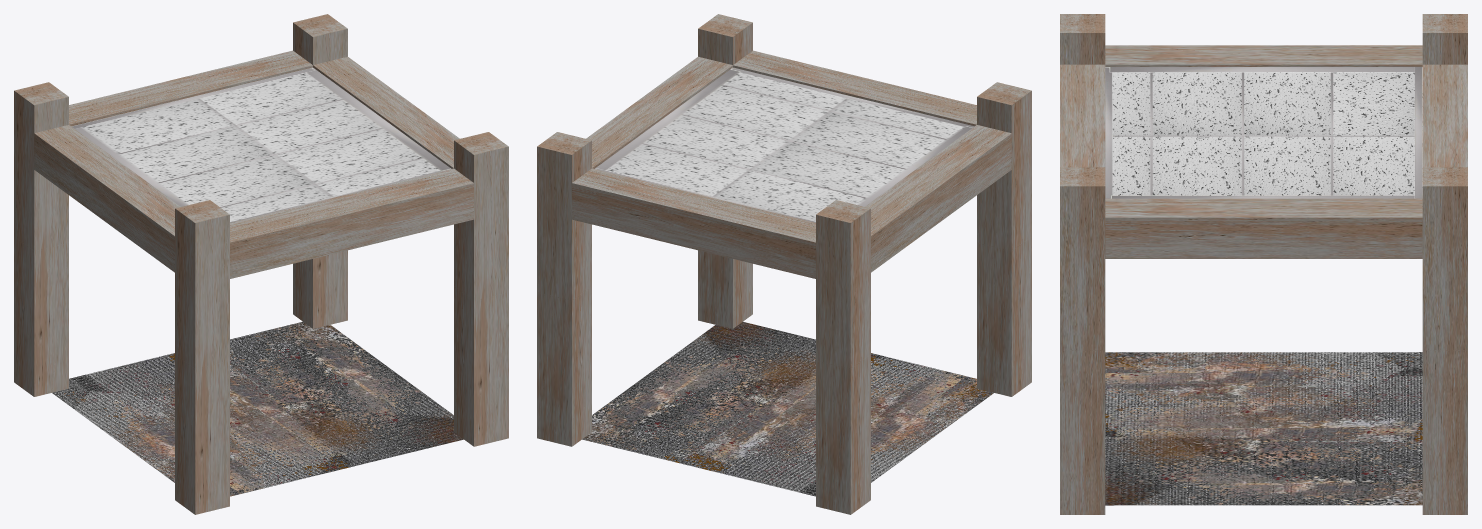
The picture shows the model from 3 angles, left to right: view 1: azimuth 30°, elevation 25°; view 2: azimuth 150°, elevation 25°; view 3: azimuth 270°, elevation 25°; orthographic projection. The views are drawn at different scales.
Visible parts, largest first — view 1: floor_front, cieling_front, center_pillar_left.002, center_pillar_left.003, center_pillar_left, front_left_support_beam.003, front_left_support_beam, center_pillar_left.001, front_left_support_beam.002, front_left_support_beam.001; view 2: floor_front, cieling_front, center_pillar_left, center_pillar_left.001, center_pillar_left.002, front_left_support_beam.002, front_left_support_beam, center_pillar_left.003, front_left_support_beam.003, front_left_support_beam.001; view 3: floor_front, cieling_front, front_left_support_beam.001, center_pillar_left.001, center_pillar_left.003, front_left_support_beam, front_left_support_beam.002, front_left_support_beam.003, center_pillar_left, center_pillar_left.002.
Boxes of the visible parts, <box> form: floor_front: <box>52,321,463,496</box>; cieling_front: <box>71,67,451,222</box>; center_pillar_left.002: <box>175,200,229,514</box>; center_pillar_left.003: <box>454,132,508,446</box>; center_pillar_left: <box>14,82,68,396</box>; front_left_support_beam.003: <box>230,168,473,278</box>; front_left_support_beam: <box>34,125,180,272</box>; center_pillar_left.001: <box>293,14,347,328</box>; front_left_support_beam.002: <box>69,50,312,126</box>; front_left_support_beam.001: <box>313,56,459,168</box>; floor_front: <box>582,322,993,496</box>; cieling_front: <box>594,67,974,222</box>; center_pillar_left: <box>816,200,870,514</box>; center_pillar_left.001: <box>537,132,591,446</box>; center_pillar_left.002: <box>977,82,1031,396</box>; front_left_support_beam.002: <box>572,168,815,278</box>; front_left_support_beam: <box>865,125,1011,272</box>; center_pillar_left.003: <box>698,14,752,328</box>; front_left_support_beam.003: <box>733,50,976,126</box>; front_left_support_beam.001: <box>586,56,732,168</box>; floor_front: <box>1105,352,1422,505</box>; cieling_front: <box>1105,67,1422,198</box>; front_left_support_beam.001: <box>1105,198,1422,258</box>; center_pillar_left.001: <box>1422,167,1467,514</box>; center_pillar_left.003: <box>1060,167,1105,514</box>; front_left_support_beam: <box>1105,45,1422,66</box>; front_left_support_beam.002: <box>1422,64,1467,167</box>; front_left_support_beam.003: <box>1060,64,1105,167</box>; center_pillar_left: <box>1422,14,1467,64</box>; center_pillar_left.002: <box>1060,14,1105,64</box>.
Size of the model in its own units: 2.25 by 2 by 2.25.
Materials: 3 (3 with a texture image).
